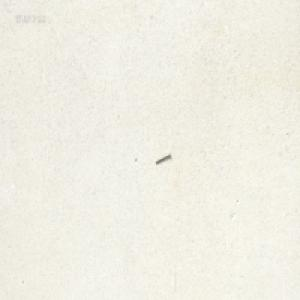Bolt: (154, 149, 170, 162)
